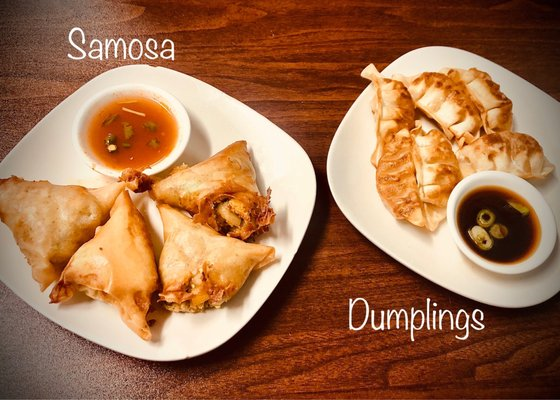sushi: (73, 84, 192, 189), (447, 170, 559, 278)
